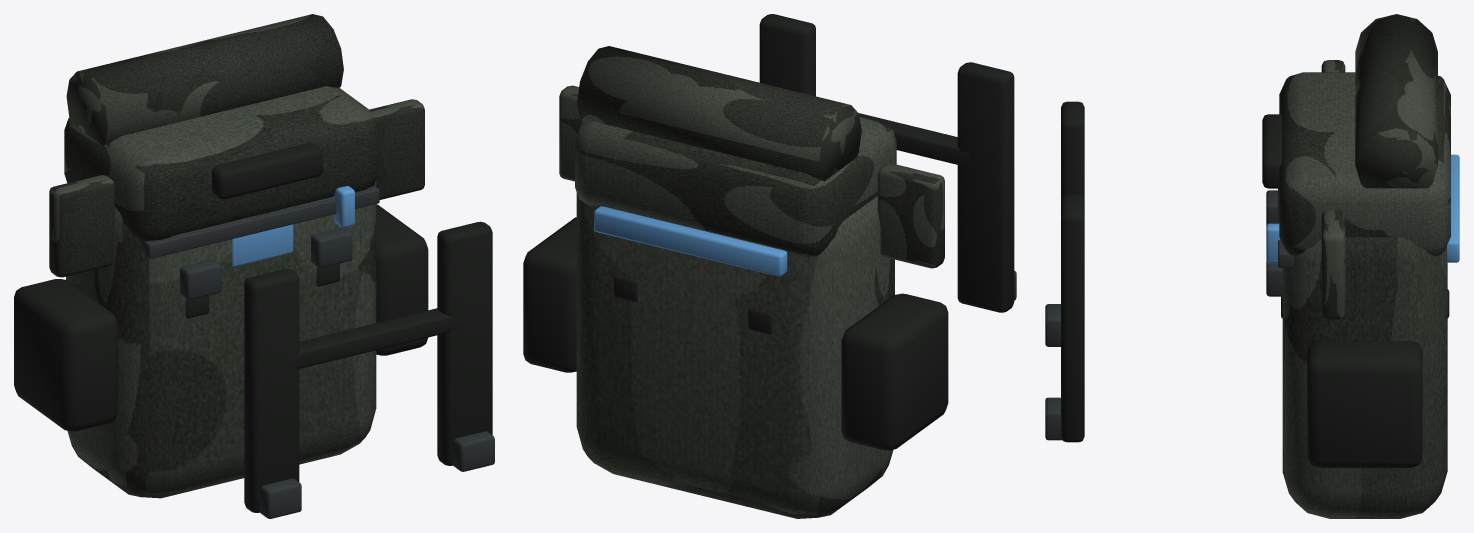
Rendered from gear_bag_tactical.glb.
The picture shows the model from 3 angles, left to right: view 1: azimuth 30°, elevation 25°; view 2: azimuth 150°, elevation 25°; view 3: azimuth 270°, elevation 25°; orthographic projection. The views are drawn at different scales.
Visible parts, largest first — view 1: Gear; view 2: Gear; view 3: Gear.
Part boxes in pixels (bbox=[...]): Gear: bbox=[14, 14, 494, 518]; Gear: bbox=[523, 14, 1016, 518]; Gear: bbox=[1045, 14, 1459, 518].
Bounding box in the file's own units: 0.535 × 0.5593 × 0.525.
5 materials, 3 textured.
